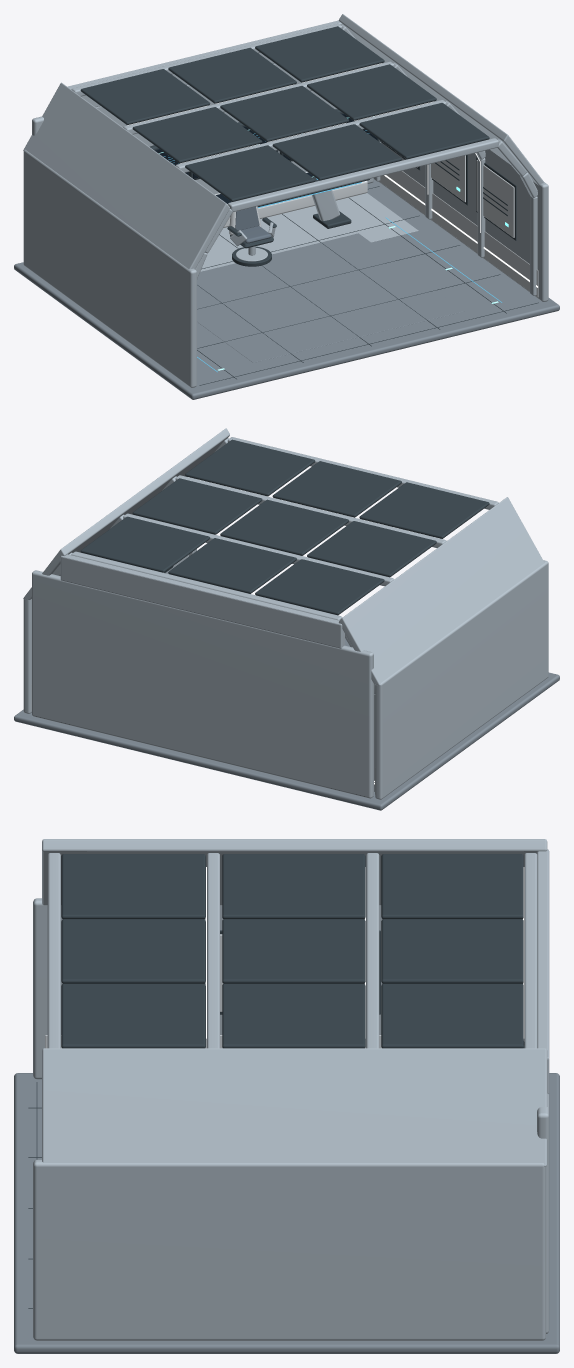
The model's file is command-room.glb.
The picture shows the model from 3 angles, top to bottom: view 1: azimuth 30°, elevation 25°; view 2: azimuth 150°, elevation 25°; view 3: azimuth 270°, elevation 25°; orthographic projection. The views are drawn at different scales.
Visible parts, largest first — view 1: Room • shell, Room • trim, Room • floor, Room • ivory, Room • glow, Room • seat; view 2: Room • shell, Room • trim, Room • floor; view 3: Room • shell, Room • trim, Room • floor, Room • glow.
Boxes of the visible parts, box(x1,y1,x2,y2) form: Room • shell: box(23, 14, 548, 387); Room • trim: box(80, 26, 538, 385); Room • floor: box(14, 179, 559, 399); Room • ivory: box(215, 109, 538, 297); Room • glow: box(127, 63, 538, 287); Room • seat: box(235, 206, 271, 243); Room • shell: box(23, 428, 548, 799); Room • trim: box(80, 439, 489, 615); Room • floor: box(14, 638, 559, 810); Room • shell: box(33, 839, 549, 1340); Room • trim: box(28, 854, 524, 1308); Room • floor: box(14, 1073, 559, 1353); Room • glow: box(205, 867, 524, 1038).
Size of the model in its own units: 12.7 by 5.93 by 10.7.
